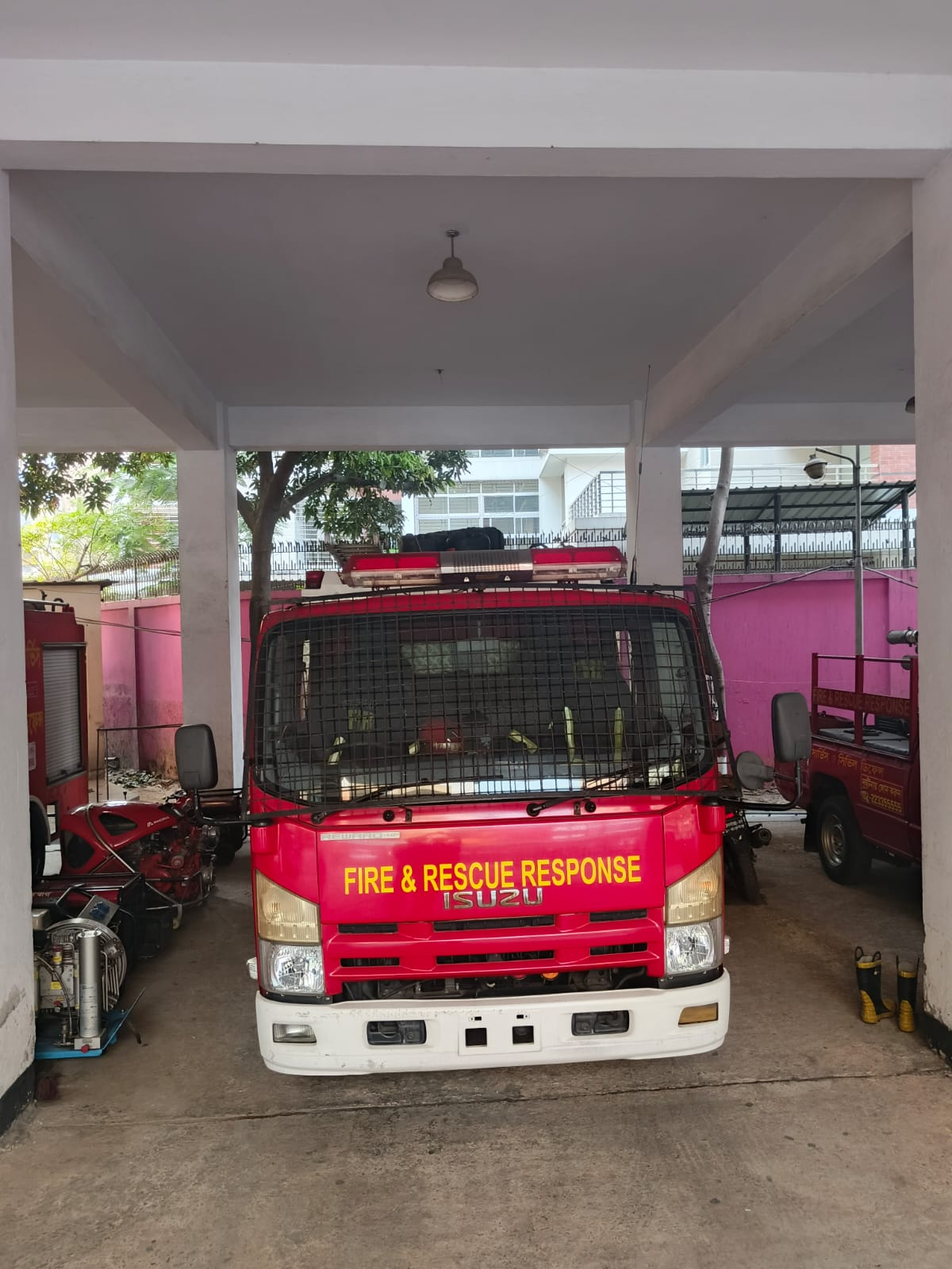Fire truck: (222, 501, 756, 1107)
